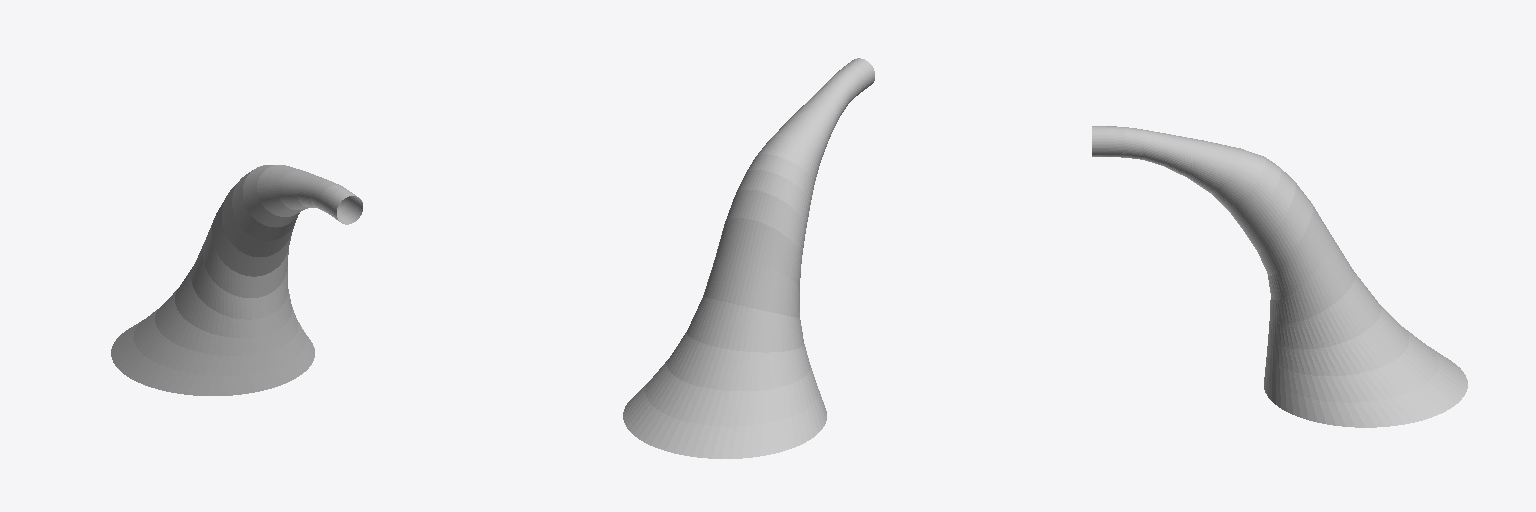
The model's file is ToxicWaterfall.obj.
3 renders of one model, left to right at view 1: azimuth 30°, elevation 25°; view 2: azimuth 150°, elevation 25°; view 3: azimuth 270°, elevation 25°, orthographic.
Visible parts, largest first — view 1: ToxicWaterfall_Cylinder.001; view 2: ToxicWaterfall_Cylinder.001; view 3: ToxicWaterfall_Cylinder.001.
Boxes of the visible parts, x1=… form: ToxicWaterfall_Cylinder.001: x1=111, y1=165, x2=362, y2=395; ToxicWaterfall_Cylinder.001: x1=623, y1=58, x2=874, y2=458; ToxicWaterfall_Cylinder.001: x1=1092, y1=126, x2=1467, y2=427.
Bounding box in the file's own units: 13.11 × 18.2 × 24.12.